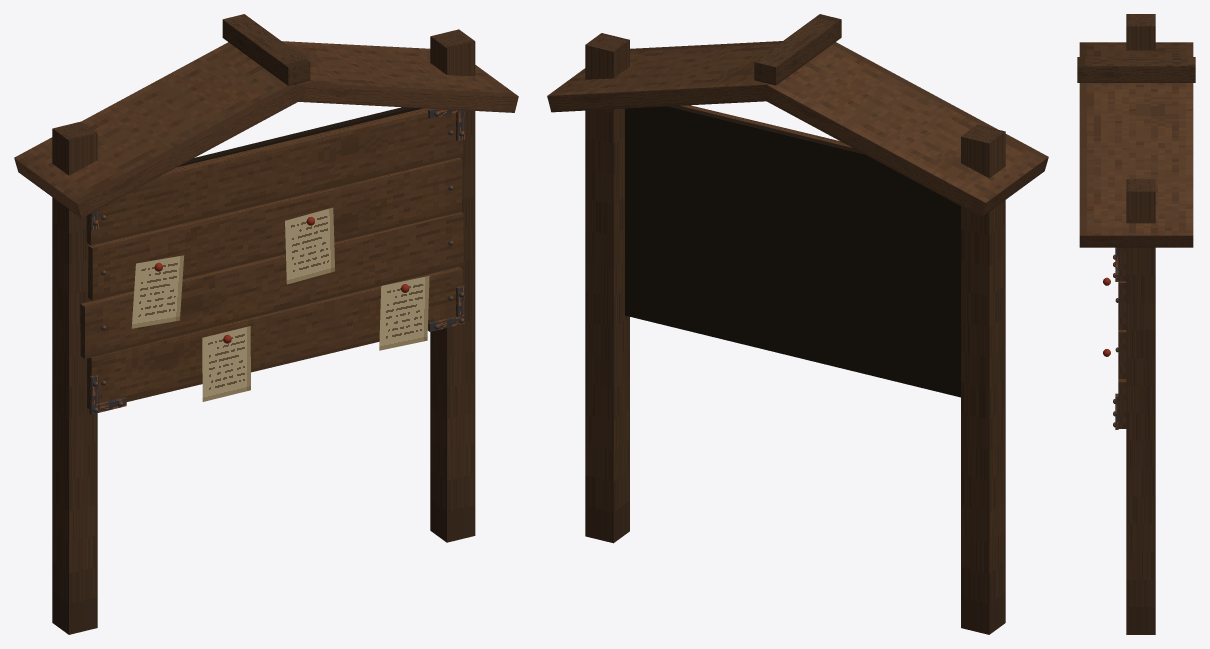
File: cartel-misiones.glb
3 views of the same model, side by side, from view 1: azimuth 30°, elevation 25°; view 2: azimuth 150°, elevation 25°; view 3: azimuth 270°, elevation 25° (orthographic). The views are drawn at different scales.
Visible parts, largest first — view 1: cartel-misiones, object 3, object 9, object 6, object 12, object 2; view 2: cartel-misiones, object 2; view 3: cartel-misiones, object 12, object 6, object 9, object 3.
Boxes of the visible parts, x1,y1,x2,y2 form: cartel-misiones: [14, 14, 518, 634]; object 3: [86, 108, 463, 245]; object 9: [80, 212, 463, 358]; object 6: [88, 157, 462, 300]; object 12: [87, 266, 462, 408]; object 2: [177, 107, 422, 167]; cartel-misiones: [547, 14, 1048, 634]; object 2: [625, 105, 960, 397]; cartel-misiones: [1077, 14, 1195, 634]; object 12: [1118, 379, 1126, 428]; object 6: [1118, 281, 1126, 329]; object 9: [1118, 330, 1126, 378]; object 3: [1118, 247, 1126, 281].
Size of the model in its own units: 2.01 by 2.35 by 0.52.
15 materials, 13 textured.
